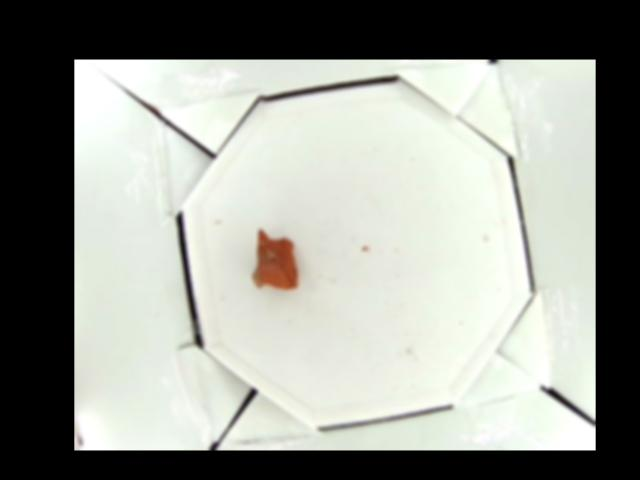Brisk: (251, 230, 297, 290)
